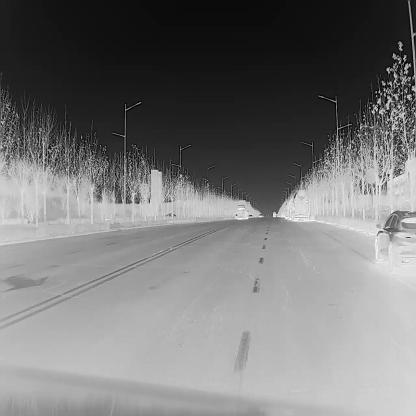car: (373, 209, 416, 271), (163, 211, 177, 219), (280, 211, 285, 219), (258, 213, 262, 218), (249, 214, 253, 218)
truck: (292, 188, 310, 222), (236, 200, 250, 220), (287, 197, 295, 220), (272, 211, 276, 217)
